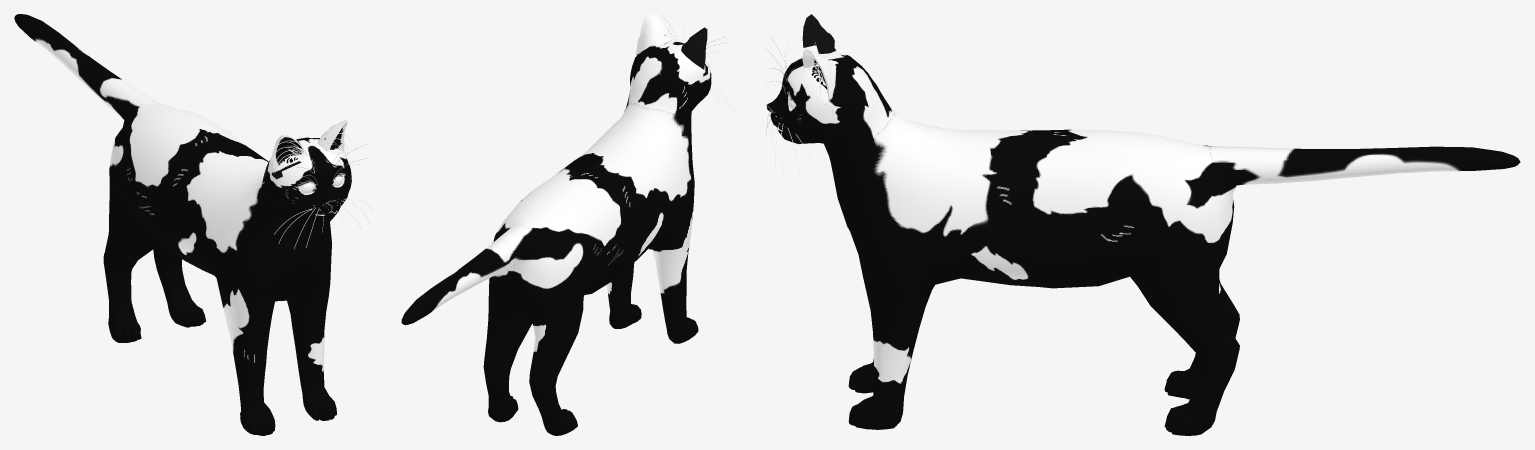
Rendered from 猫咪绑定1009.glb.
The picture shows the model from 3 angles, left to right: view 1: azimuth 30°, elevation 25°; view 2: azimuth 150°, elevation 25°; view 3: azimuth 270°, elevation 25°; orthographic projection. The views are drawn at different scales.
Visible parts, largest first — view 1: Plane; view 2: Plane; view 3: Plane.
Boxes of the visible parts, x1,y1,x2,y2 form: Plane: (14,14,351,435); Plane: (401,14,711,435); Plane: (766,14,1520,435).
Size of the model in its own units: 0.7681 by 2.25 by 4.03.
Materials: 10 (1 with a texture image).
